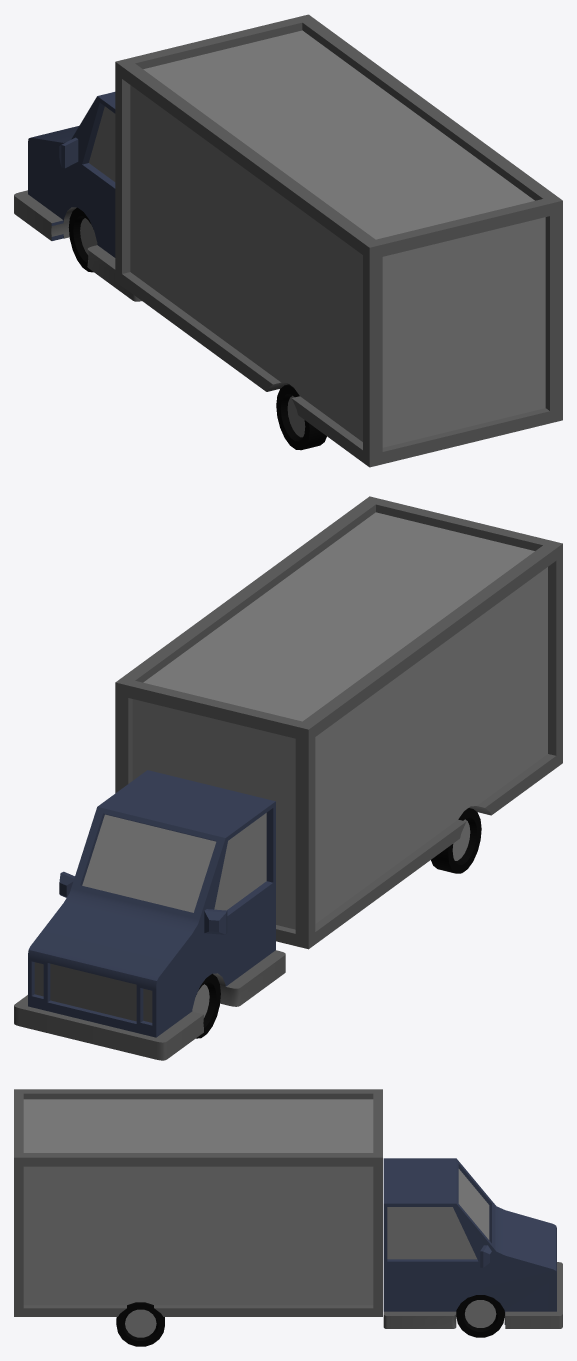
File: SM_van.fbx
3 views of the same model, one above another, from view 1: azimuth 30°, elevation 25°; view 2: azimuth 150°, elevation 25°; view 3: azimuth 270°, elevation 25° (orthographic). The views are drawn at different scales.
Visible parts, largest first — view 1: Truck; view 2: Truck; view 3: Truck.
Part boxes in pixels (<box>): Truck: <box>14,14,562,467</box>; Truck: <box>14,496,562,1060</box>; Truck: <box>14,1089,562,1346</box>.
Size of the model in its own units: 106 by 139 by 358.
